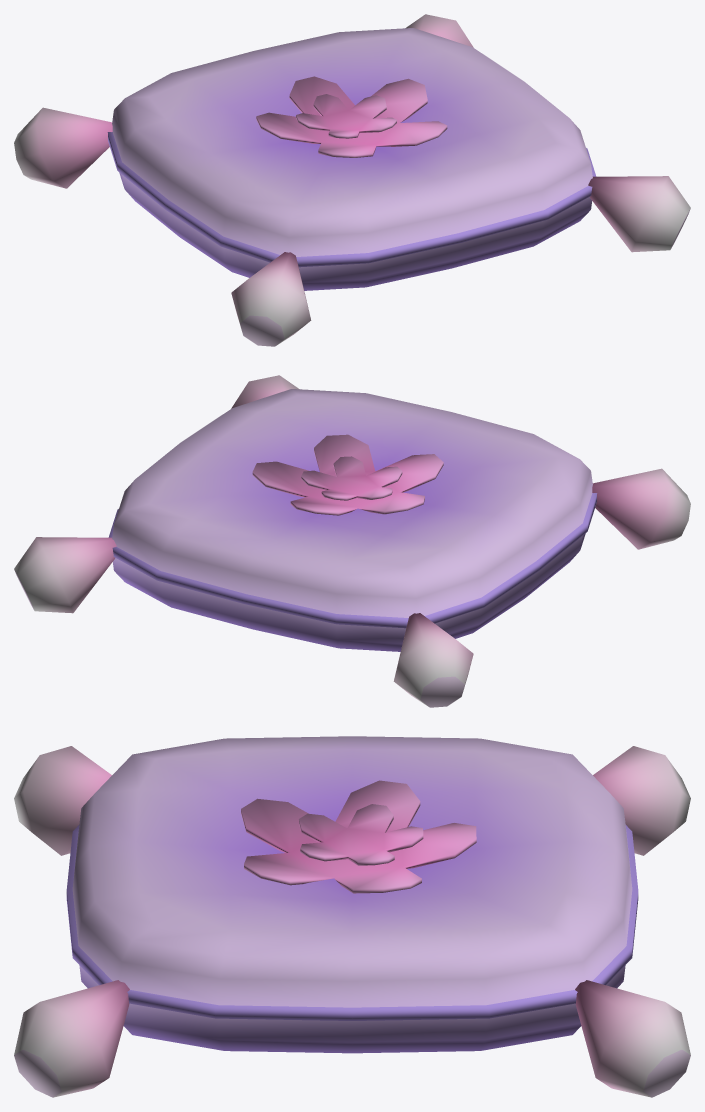
The model's file is cutepack2023pinkpillow.fbx.
3 renders of one model, top to bottom at view 1: azimuth 30°, elevation 25°; view 2: azimuth 150°, elevation 25°; view 3: azimuth 270°, elevation 25°, orthographic. The views are drawn at different scales.
Parts seen in each view (by area): view 1: Sphere.039; view 2: Sphere.039; view 3: Sphere.039.
Part boxes in pixels (x1,y1,x2,y2): Sphere.039: (14, 14, 690, 346); Sphere.039: (14, 375, 690, 707); Sphere.039: (14, 736, 690, 1097).
Size of the model in its own units: 127 by 27.56 by 125.
